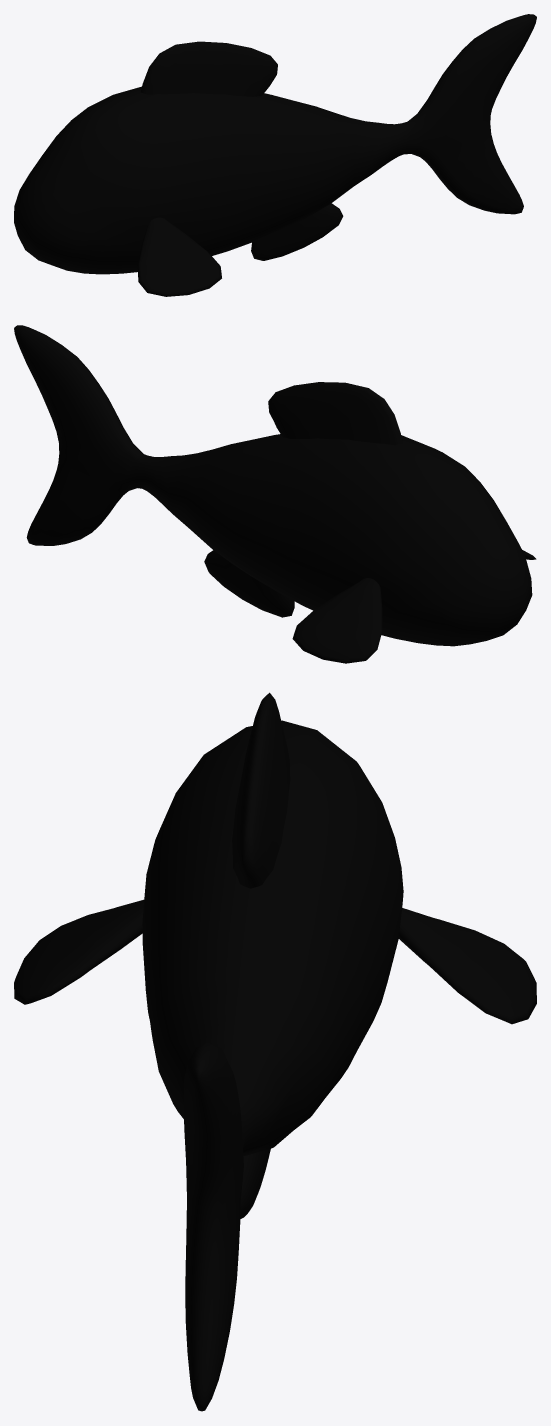
File: fish.glb
3 views of the same model, one above another, from view 1: azimuth 30°, elevation 25°; view 2: azimuth 150°, elevation 25°; view 3: azimuth 270°, elevation 25° (orthographic). The views are drawn at different scales.
Visible parts, largest first — view 1: mesh_id27; view 2: mesh_id27; view 3: mesh_id27.
Part boxes in pixels (<box>): mesh_id27: <box>14,14,536,296</box>; mesh_id27: <box>14,325,536,663</box>; mesh_id27: <box>14,692,536,1411</box>.
Bounding box in the file's own units: 0.2602 × 0.1187 × 0.1318.
Materials: 1 (1 with a texture image).
